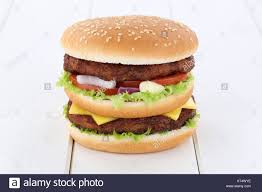hamburger: (57, 14, 202, 157)
